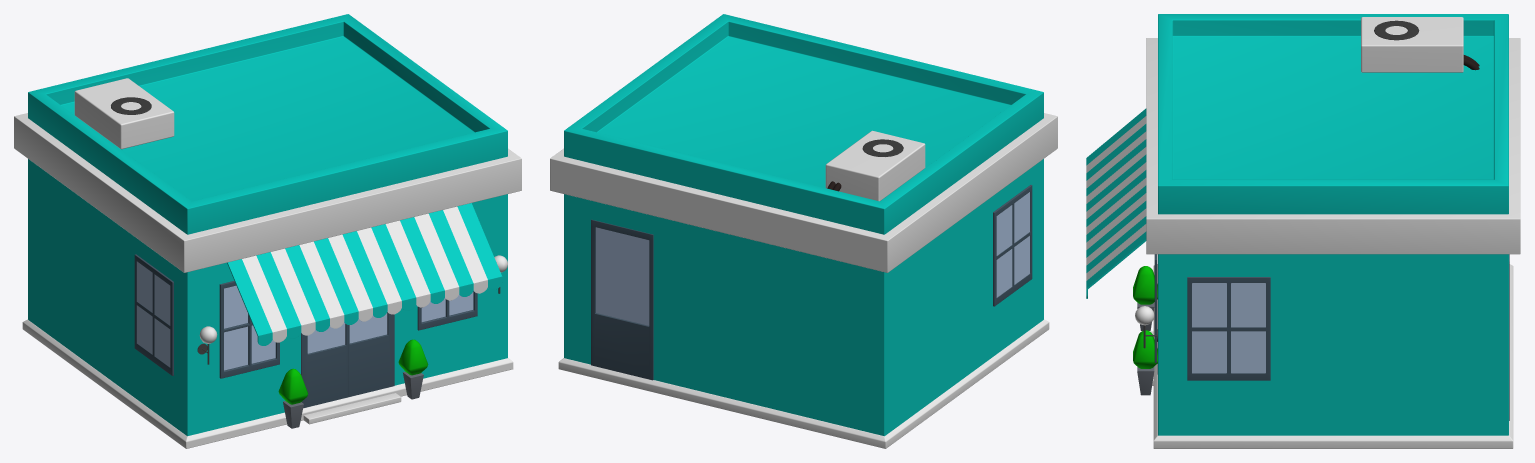
File: ShortBuilding.fbx
The picture shows the model from 3 angles, left to right: view 1: azimuth 30°, elevation 25°; view 2: azimuth 150°, elevation 25°; view 3: azimuth 270°, elevation 25°; orthographic projection. The views are drawn at different scales.
Parts seen in each view (by area): view 1: house; view 2: house; view 3: house.
Part boxes in pixels (<box>): house: <box>14,14,521,448</box>; house: <box>550,14,1057,448</box>; house: <box>1086,14,1520,448</box>.
Bounding box in the file's own units: 2096 × 1476 × 2123.
